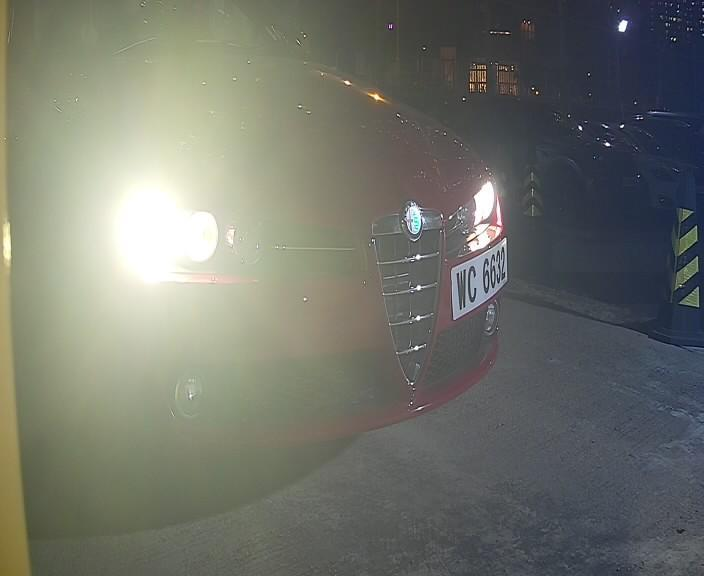Car: (19, 16, 613, 499)
License Plate: (434, 231, 523, 328)
